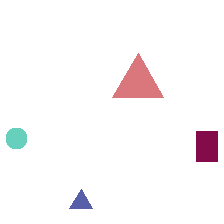circle: (6, 128, 26, 148)
rectangle: (196, 131, 217, 161)
triangle: (112, 53, 163, 97), (69, 189, 92, 208)
